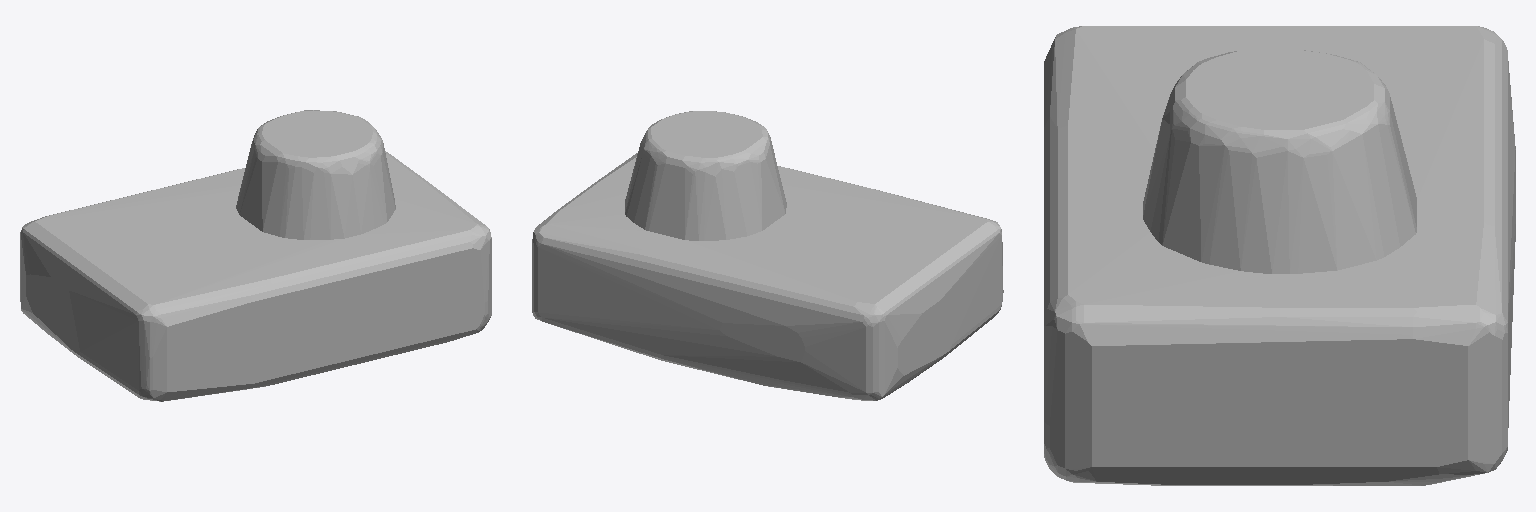
robot.urdf — root:
<robot name="root">
  <link name="link_coacd_convex_piece_0">
    <inertial>
      <origin xyz="0 0 0" rpy="0 0 0"/>
      <inertia ixx="8.16E-02" ixy="1.61E-03" ixz="7.24E-04" iyy="2.11E-01" iyz="1.61E-05" izz="1.67E-01"/>
    </inertial>
    <visual>
      <origin xyz="0 0 0" rpy="0 0 0"/>
      <geometry>
        <mesh filename="coacd_convex_piece_0.obj" scale="1.0000E+00 1.0000E+00 1.0000E+00"/>
      </geometry>
      <material name="">
        <color rgba="7.50E-01 7.50E-01 7.50E-01 1"/>
      </material>
    </visual>
    <collision>
      <origin xyz="0 0 0" rpy="0 0 0"/>
      <geometry>
        <mesh filename="coacd_convex_piece_0.obj" scale="1.0000E+00 1.0000E+00 1.0000E+00"/>
      </geometry>
    </collision>
  </link>
  <link name="link_coacd_convex_piece_1">
    <inertial>
      <origin xyz="0 0 0" rpy="0 0 0"/>
      <inertia ixx="4.41E-03" ixy="4.72E-03" ixz="-6.35E-05" iyy="8.39E-03" iyz="-5.49E-05" izz="9.89E-03"/>
    </inertial>
    <visual>
      <origin xyz="0 0 0" rpy="0 0 0"/>
      <geometry>
        <mesh filename="coacd_convex_piece_1.obj" scale="1.0000E+00 1.0000E+00 1.0000E+00"/>
      </geometry>
      <material name="">
        <color rgba="7.50E-01 7.50E-01 7.50E-01 1"/>
      </material>
    </visual>
    <collision>
      <origin xyz="0 0 0" rpy="0 0 0"/>
      <geometry>
        <mesh filename="coacd_convex_piece_1.obj" scale="1.0000E+00 1.0000E+00 1.0000E+00"/>
      </geometry>
    </collision>
  </link>
  <joint name="link_coacd_convex_piece_1_joint" type="fixed">
    <origin xyz="0 0 0" rpy="0 0 0"/>
    <parent link="link_coacd_convex_piece_0"/>
    <child link="link_coacd_convex_piece_1"/>
  </joint>
</robot>

--- Render facts (derived) ---
Views: 3 orthographic renders of the robot side by side, from view 1: azimuth 30°, elevation 25°; view 2: azimuth 150°, elevation 25°; view 3: azimuth 270°, elevation 25°.
Model root with 2 links and 1 joints (1 fixed), rooted at link_coacd_convex_piece_0, posed every joint at zero.
Visible links, largest first — view 1: link_coacd_convex_piece_0, link_coacd_convex_piece_1; view 2: link_coacd_convex_piece_0, link_coacd_convex_piece_1; view 3: link_coacd_convex_piece_0, link_coacd_convex_piece_1.
Link boxes in pixels (left/top/right/bottom): link_coacd_convex_piece_0: left=20, top=151, right=491, bottom=401; link_coacd_convex_piece_1: left=236, top=110, right=395, bottom=239; link_coacd_convex_piece_0: left=532, top=153, right=1003, bottom=400; link_coacd_convex_piece_1: left=625, top=111, right=786, bottom=240; link_coacd_convex_piece_0: left=1044, top=26, right=1515, bottom=485; link_coacd_convex_piece_1: left=1143, top=50, right=1416, bottom=273.
Size in the robot's own frame: 1.64 by 1.07 by 0.7854 metres.
Meshes: 2 distinct files referenced, 2 mesh visuals loaded (2 OBJ).
